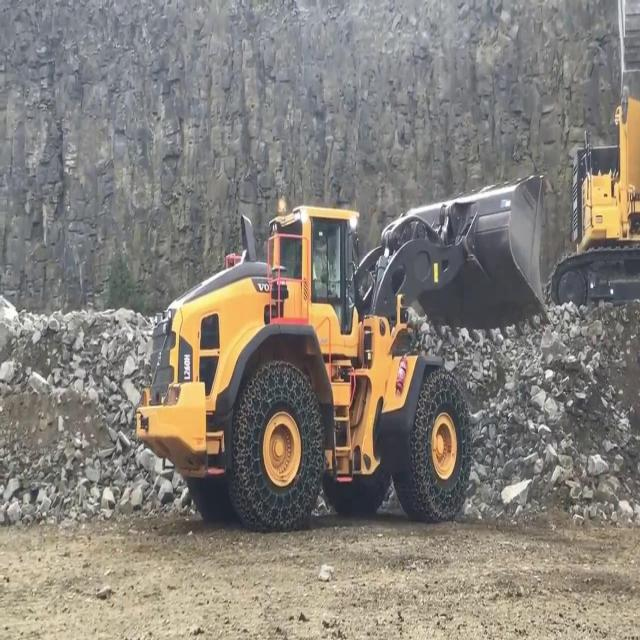Excavator: (546, 0, 640, 311)
Loader: (137, 174, 543, 534)
